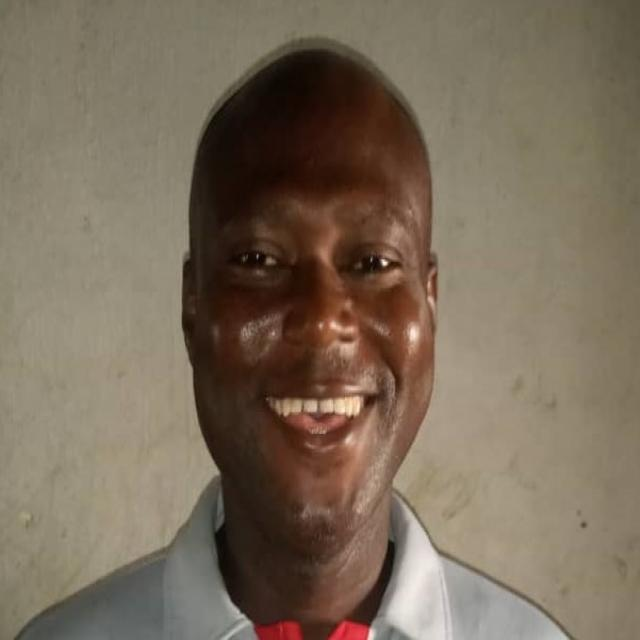happy: (177, 19, 443, 551)
